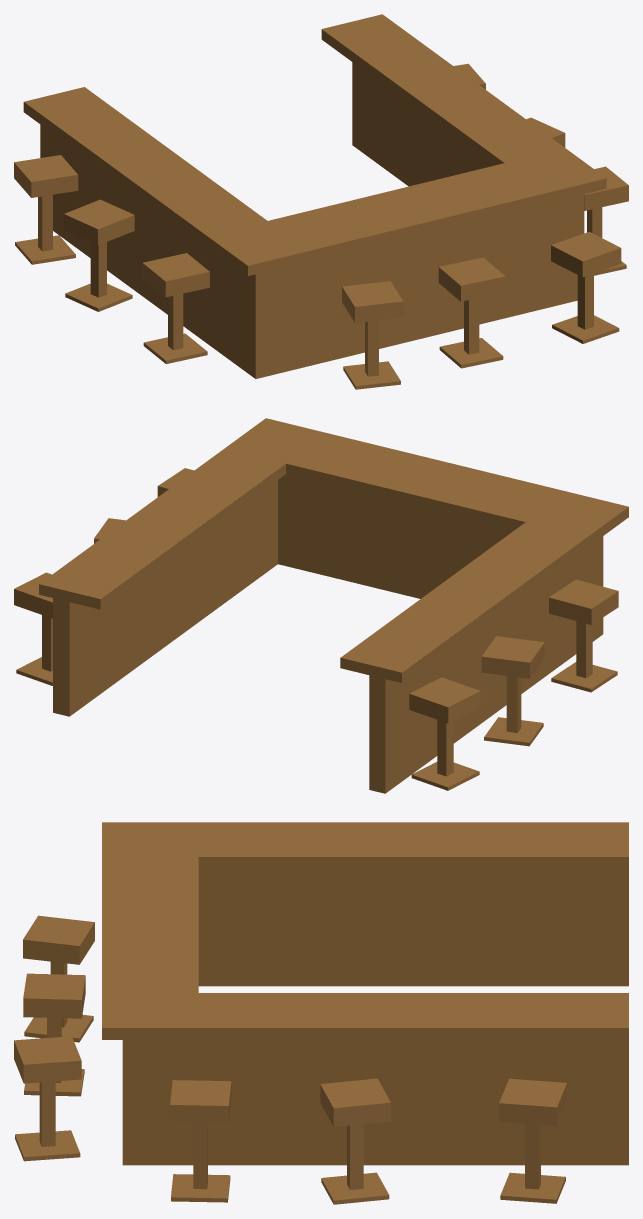
The model's file is inside1.fbx.
The picture shows the model from 3 angles, top to bottom: view 1: azimuth 30°, elevation 25°; view 2: azimuth 150°, elevation 25°; view 3: azimuth 270°, elevation 25°; orthographic projection. The views are drawn at different scales.
Visible parts, largest first — view 1: pCube33, pCube54, pCube60, pCube53, pCube59, pCube58, pCube34, pCube55; view 2: pCube33, pCube58, pCube59, pCube60, pCube57; view 3: pCube33, pCube56, pCube54, pCube57, pCube55, pCube34, pCube53.
Boxes of the visible parts, x1=… form: pCube33: x1=23, y1=14, x2=606, y2=378; pCube54: x1=551, y1=231, x2=621, y2=343; pCube60: x1=64, y1=199, x2=134, y2=311; pCube53: x1=438, y1=257, x2=505, y2=368; pCube59: x1=142, y1=253, x2=209, y2=364; pCube58: x1=14, y1=155, x2=78, y2=264; pCube34: x1=342, y1=281, x2=403, y2=389; pCube55: x1=584, y1=166, x2=628, y2=275; pCube33: x1=39, y1=418, x2=628, y2=793; pCube58: x1=409, y1=677, x2=480, y2=790; pCube59: x1=549, y1=579, x2=618, y2=692; pCube60: x1=481, y1=636, x2=544, y2=746; pCube57: x1=14, y1=572, x2=52, y2=685; pCube33: x1=102, y1=822, x2=628, y2=1165; pCube56: x1=320, y1=1078, x2=390, y2=1204; pCube54: x1=14, y1=1036, x2=81, y2=1161; pCube57: x1=499, y1=1078, x2=566, y2=1203; pCube55: x1=170, y1=1080, x2=231, y2=1202; pCube34: x1=23, y1=915, x2=94, y2=1042; pCube53: x1=23, y1=973, x2=85, y2=1096.
Size of the model in its own units: 30.37 by 7.82 by 29.99.
